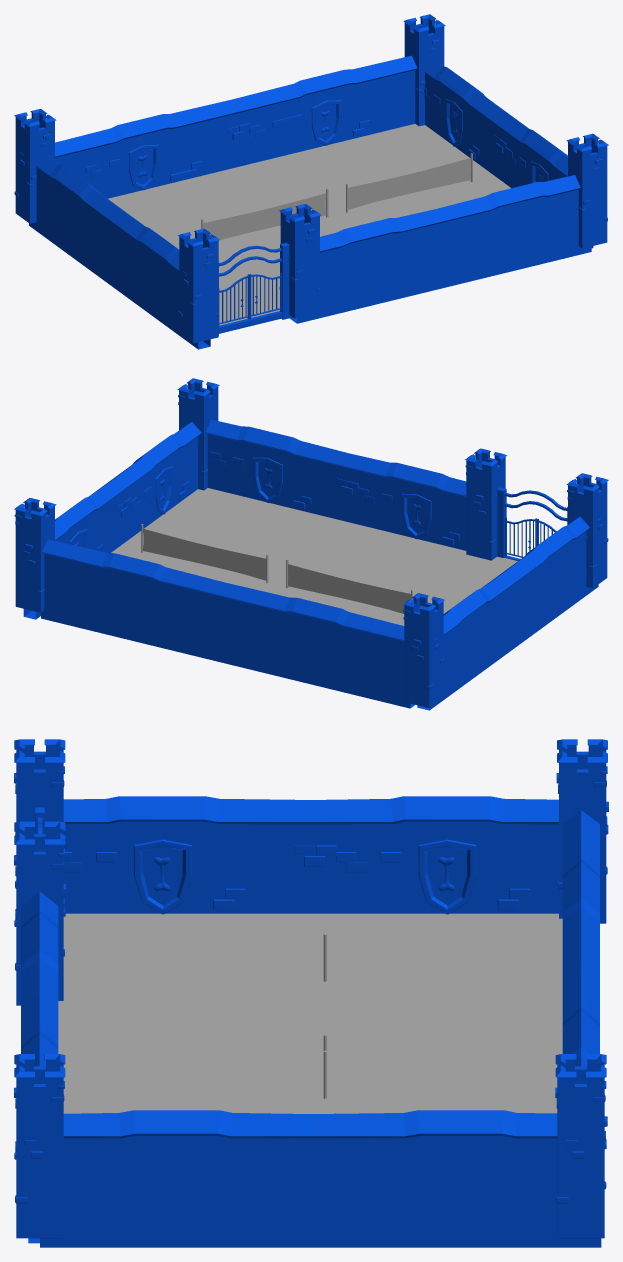
File: TennisCourt.fbx
3 views of the same model, one above another, from view 1: azimuth 30°, elevation 25°; view 2: azimuth 150°, elevation 25°; view 3: azimuth 270°, elevation 25° (orthographic). The views are drawn at different scales.
Parts seen in each view (by area): view 1: TennisGround, Wall55, Wall53, Wall50, Wall54, Tower49, Tower50, Tower51, Tower53, Net, Tower52, Net1 (+5 smaller); view 2: Wall55, TennisGround, Wall53, Wall50, Wall54, Tower53, Tower50, Tower52, Tower49, Net, Net1, Tower51 (+3 smaller); view 3: TennisGround, Wall54, Wall50, Wall55, Tower52, Tower51, Wall53, Tower50, Tower53, Tower49.
Boxes of the visible parts, x1,y1,x2,y2 form: TennisGround: (108,124,510,325); Wall55: (55,55,417,198); Wall53: (290,175,591,323); Wall50: (29,152,210,349); Wall54: (421,57,593,248); Tower49: (178,228,219,343); Tower50: (279,204,321,318); Tower51: (566,133,608,248); Tower53: (14,109,56,223); Net: (348,158,470,209); Tower52: (403,14,445,126); Net1: (203,193,326,240); Wall55: (41,539,414,708); TennisGround: (111,488,517,625); Wall53: (205,419,466,550); Wall50: (417,516,598,710); Wall54: (23,422,201,619); Tower53: (403,593,444,707); Tower50: (465,448,506,560); Tower52: (14,498,56,612); Tower49: (566,473,608,588); Net: (143,528,266,580); Net1: (288,564,410,613); Tower51: (177,378,219,490); TennisGround: (58,913,562,1113); Wall54: (40,1110,601,1247); Wall50: (63,796,558,914); Wall55: (562,810,599,1066); Tower52: (555,1054,607,1238); Tower51: (14,1054,65,1238); Wall53: (21,892,58,1243); Tower50: (14,821,66,1005); Tower53: (556,739,608,923); Tower49: (14,739,65,888).
Size of the model in its own units: 22.24 by 5.55 by 16.6.
